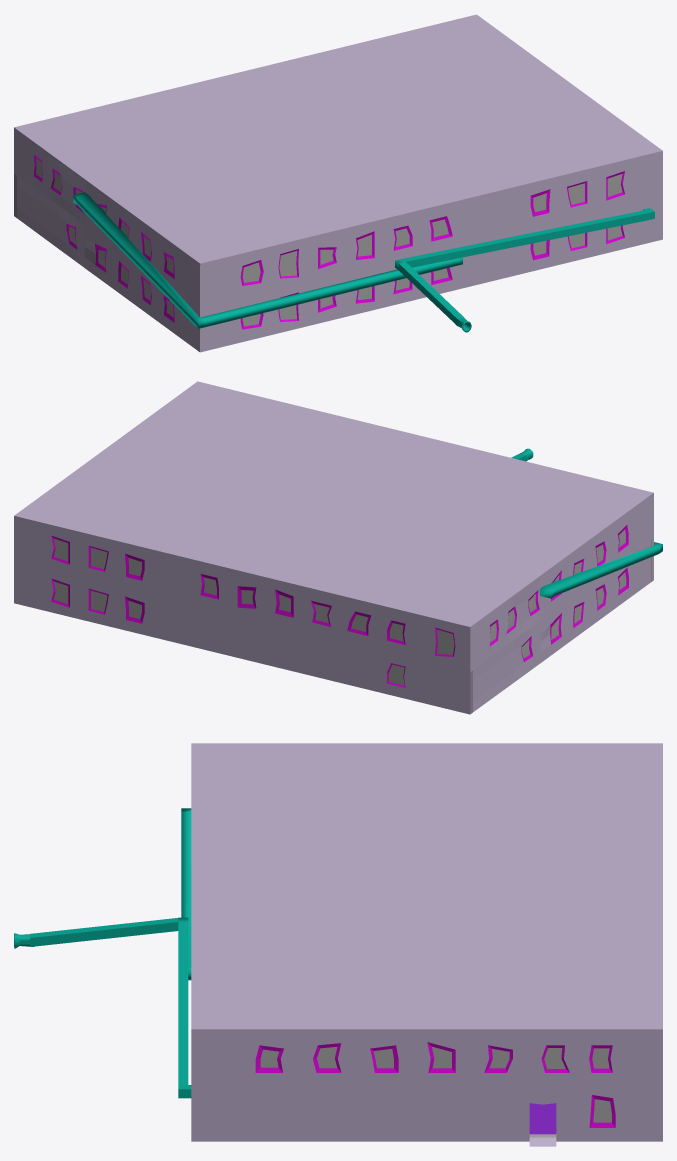
Rendered from SM_SchoolBuilding_3.3.fbx.
3 renders of one model, top to bottom at view 1: azimuth 30°, elevation 25°; view 2: azimuth 150°, elevation 25°; view 3: azimuth 270°, elevation 25°, orthographic. The views are drawn at different scales.
Parts seen in each view (by area): view 1: SM_SchoolCeiling_3, SM_SchoolWallEastTop_3, SM_SchoolWallEastBottom_3, SM_SchoolWallSouthBottom_3, SM_SchoolWallSoutTop_3, SM_Vent_1_2, SM_VentBathrooms; view 2: SM_SchoolCeiling_3, SM_SchoolWallWestTop_3, SM_SchoolWallWestBottom_3, SM_SchoolWallSouthBottom_3, SM_SchoolWallSoutTop_3, SM_Vent_1_2; view 3: SM_SchoolCeiling_3, SM_SchoolWallNorthTop_3, SM_SchoolWallNothBottom_3, SM_SchoolSmallWallNorthBottom_3, SM_VentBathrooms, SM_OutsideDoorFrame_3, SM_Vent_1_2, SM_HallwayFloor_3.
Part boxes in pixels (x1,y1,x2,y2): SM_SchoolCeiling_3: [14, 14, 662, 265]; SM_SchoolWallEastTop_3: [197, 152, 662, 309]; SM_SchoolWallEastBottom_3: [197, 196, 662, 352]; SM_SchoolWallSouthBottom_3: [17, 176, 196, 349]; SM_SchoolWallSoutTop_3: [17, 131, 197, 306]; SM_Vent_1_2: [73, 192, 462, 328]; SM_VentBathrooms: [395, 208, 654, 332]; SM_SchoolCeiling_3: [14, 381, 653, 628]; SM_SchoolWallWestTop_3: [14, 517, 472, 672]; SM_SchoolWallWestBottom_3: [14, 560, 472, 714]; SM_SchoolWallSouthBottom_3: [473, 540, 650, 711]; SM_SchoolWallSoutTop_3: [473, 497, 650, 670]; SM_Vent_1_2: [540, 542, 662, 598]; SM_SchoolCeiling_3: [191, 743, 662, 1031]; SM_SchoolWallNorthTop_3: [198, 1031, 655, 1087]; SM_SchoolWallNothBottom_3: [197, 1086, 514, 1141]; SM_SchoolSmallWallNorthBottom_3: [570, 1086, 656, 1141]; SM_VentBathrooms: [14, 917, 191, 1098]; SM_OutsideDoorFrame_3: [514, 1087, 570, 1146]; SM_Vent_1_2: [181, 808, 191, 980]; SM_HallwayFloor_3: [529, 1103, 556, 1134].
Size of the model in its own units: 5799 by 1032 by 5339.
